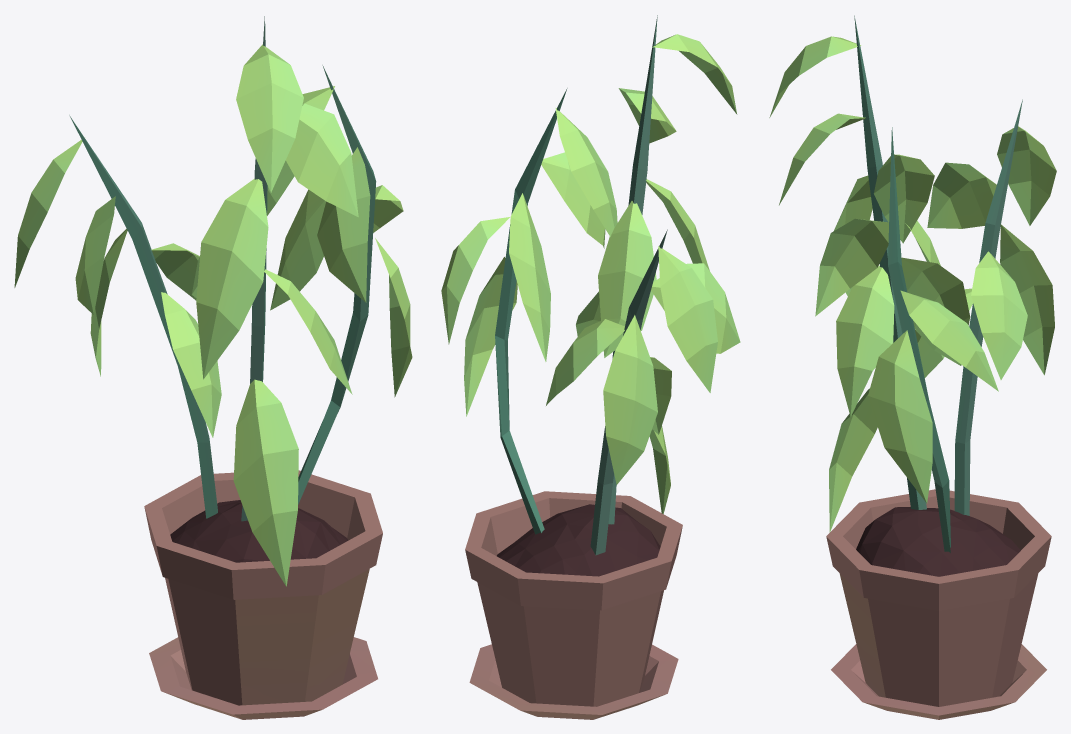
File: plant.fbx
3 renders of one model, left to right at view 1: azimuth 30°, elevation 25°; view 2: azimuth 150°, elevation 25°; view 3: azimuth 270°, elevation 25°, orthographic. The views are drawn at different scales.
Parts seen in each view (by area): view 1: Cylinder.004; view 2: Cylinder.004; view 3: Cylinder.004.
Boxes of the visible parts, x1,y1,x2,y2 form: Cylinder.004: (14,16,412,719); Cylinder.004: (441,15,740,719); Cylinder.004: (769,15,1056,719).
Bounding box in the file's own units: 167 × 341 × 136.
